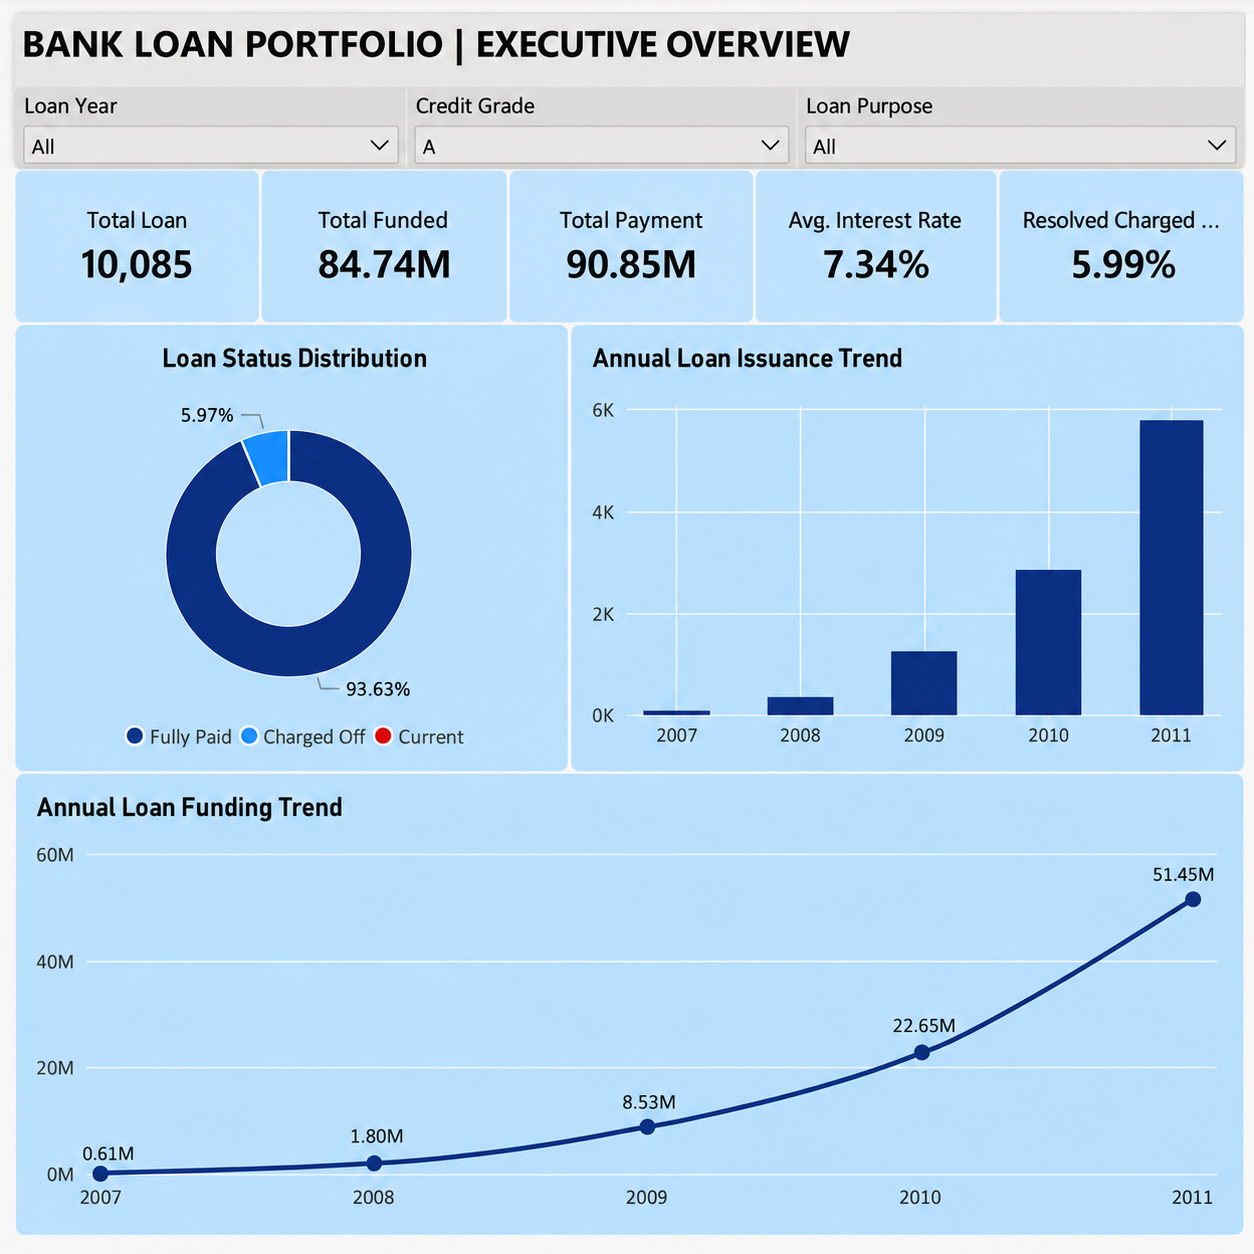

Layout of this report page (visuals, bound fields, positions):
{"tool":"powerbi","page":{"name":"OverView","canvas":[1920,1080],"ordinal":0},"visuals":[{"type":"cardVisual","fields":{"Data":["loan.Total Loan Applications"]},"box":[0,115.6,183,116],"z":0},{"type":"cardVisual","fields":{"Data":["loan.Total Funded Amount"]},"box":[183.3,115.6,185,116],"z":1000},{"type":"cardVisual","fields":{"Data":["loan.Total Payment Receivced"]},"box":[368.9,115.6,187,116],"z":2000},{"type":"cardVisual","fields":{"Data":["loan.Average Interest Rate"]},"box":[555.6,115.6,183.3,115.6],"z":3000},{"type":"cardVisual","fields":{"Data":["loan.Resolved Charged Off Rate"]},"box":[738.9,115.6,180,116],"z":4000},{"type":"donutChart","title":"Loan Status Distribution","fields":{"Category":["loan.loan_status"],"Y":["loan.Total Loan Applications"]},"box":[0,231.4,414.3,338.6],"z":5000},{"type":"clusteredColumnChart","title":"Annual Loan Issuance Trend","fields":{"Category":["loan.Loan_Year"],"Y":["loan.Total Loan Applications"]},"box":[414.3,231.4,504.3,338.6],"z":6000},{"type":"lineChart","title":"Annual Loan Funding Trend","fields":{"Category":["loan.Loan_Year"],"Y":["loan.Total Funded Amount"]},"box":[0,570,915.7,355.7],"z":7000},{"type":"slicer","fields":{"Values":["loan.Loan_Year"]},"box":[0,61.1,288,54],"z":8000},{"type":"slicer","fields":{"Values":["loan.grade"]},"box":[287.8,61.1,308,54],"z":9000},{"type":"slicer","fields":{"Values":["loan.purpose"]},"box":[595.6,61.1,320,54],"z":10000},{"type":"textbox","box":[0,0,915.7,61.4],"z":11000}]}

Visuals, with their boxes on the page's 1920x1080 design canvas (x1, y1, x2, y2). These are canvas units, not pixel positions in the 1254x1254 screenshot, which may show the page scaled, cropped or inside an application window:
cardVisual - loan.Total Loan Applications: [0, 116, 183, 232]
cardVisual - loan.Total Funded Amount: [183, 116, 368, 232]
cardVisual - loan.Total Payment Receivced: [369, 116, 556, 232]
cardVisual - loan.Average Interest Rate: [556, 116, 739, 231]
cardVisual - loan.Resolved Charged Off Rate: [739, 116, 919, 232]
"Loan Status Distribution" donutChart: [0, 231, 414, 570]
"Annual Loan Issuance Trend" clusteredColumnChart: [414, 231, 919, 570]
"Annual Loan Funding Trend" lineChart: [0, 570, 916, 926]
slicer - loan.Loan_Year: [0, 61, 288, 115]
slicer - loan.grade: [288, 61, 596, 115]
slicer - loan.purpose: [596, 61, 916, 115]
textbox: [0, 0, 916, 61]
